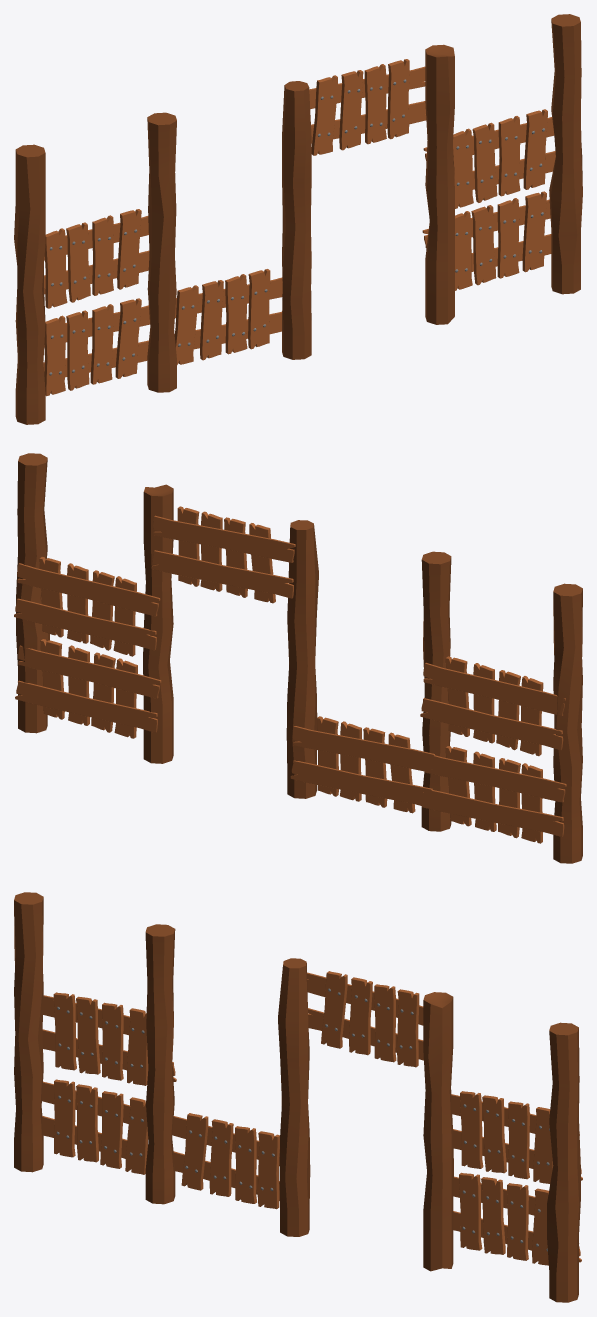
Rendered from Fence2.fbx.
3 views of the same model, one above another, from view 1: azimuth 30°, elevation 25°; view 2: azimuth 150°, elevation 25°; view 3: azimuth 330°, elevation 25° (orthographic).
Visible parts, largest first — view 1: fence_02; view 2: fence_02; view 3: fence_02.
Part boxes in pixels (x1,y1,x2,y2): fence_02: [14, 14, 582, 424]; fence_02: [14, 453, 582, 863]; fence_02: [14, 892, 582, 1302].
Bounding box in the file's own units: 17.95 × 8.14 × 1.07.
